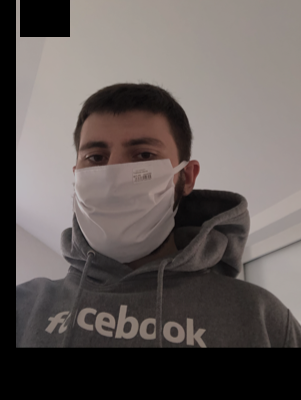with_mask: (74, 129, 181, 263)
